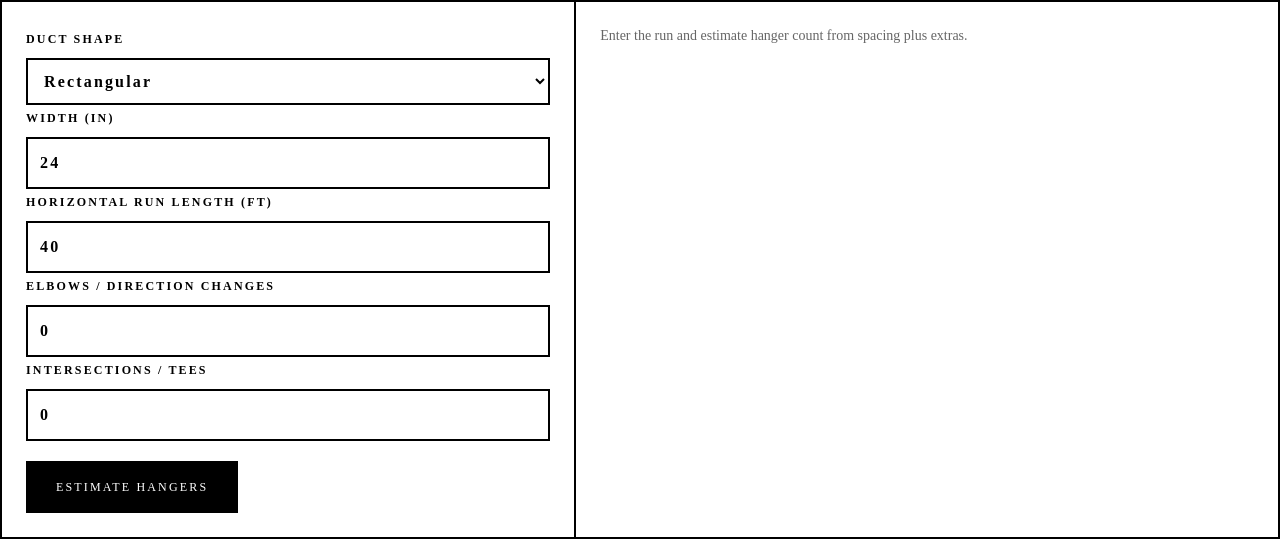
Test: HangerSpacingCalculator › estimates hangers for the default rectangular run
The image size is (1280, 559).
Expected: the field labelled "Width (in)" is shown, [26,137,550,189]
Step 1. Click the button "Estimate hangers" → [132, 487], box [26,461,238,513]
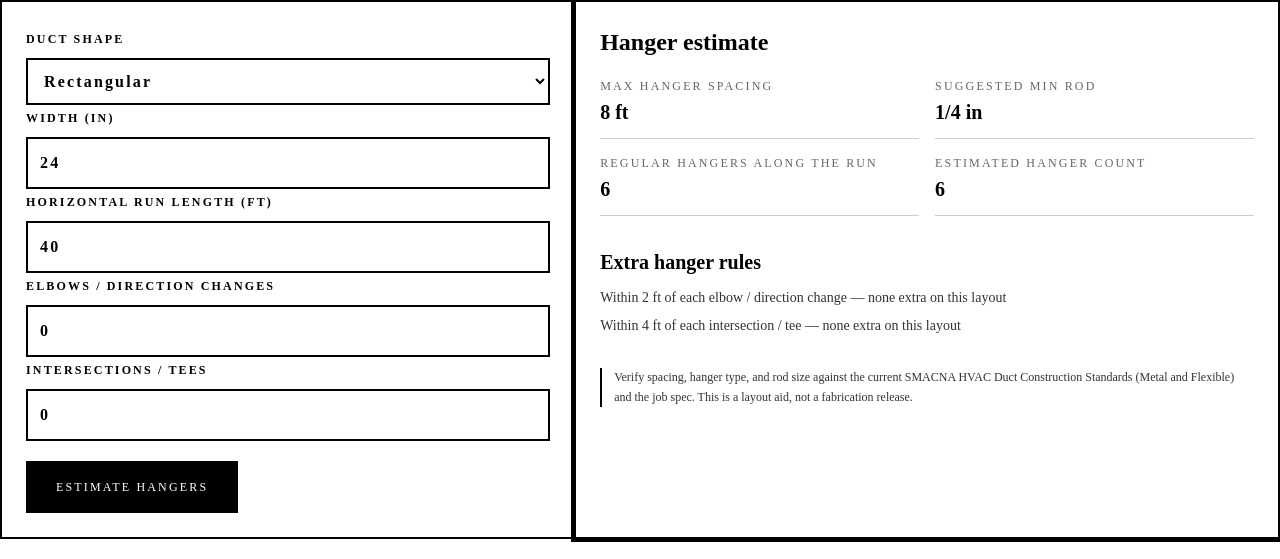
Expected: the text "8 ft" is shown, [600,101,628,123]
Expected: the text "1/4 in" is shown, [935,101,982,123]
Expected: the text "6" below "Estimated hanger count" is shown, [935,178,945,200]
